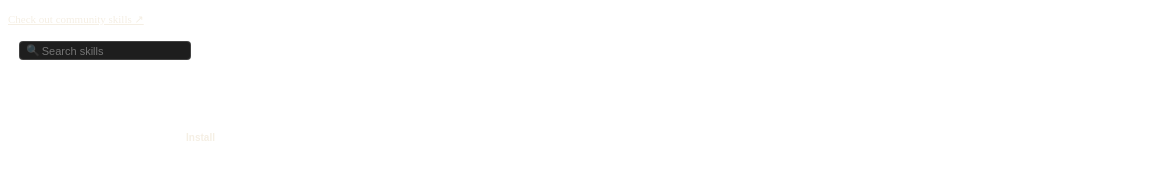
Test: install flow: Install button -> catalog.skillText -> store.install -> row moves to the installed section
Expected: the element with test id "skills-available-community-skill" is shown, [19,131,219,145]
Click the button with test id "skills-install-community-skill" at (201, 138), box [182,131,219,145]
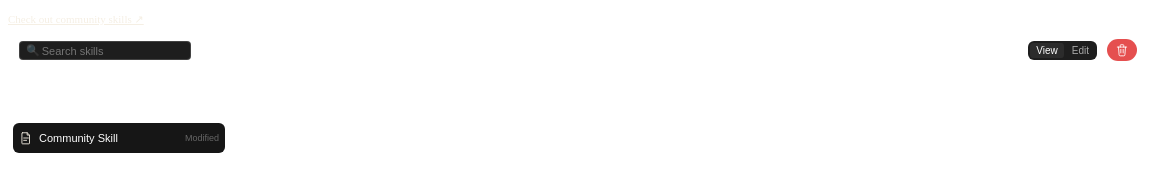
Expected: the element with test id "skills-available-community-skill" is gone
Expected: the button with test id "skills-row-community-skill" is shown, [13,123,225,153]
